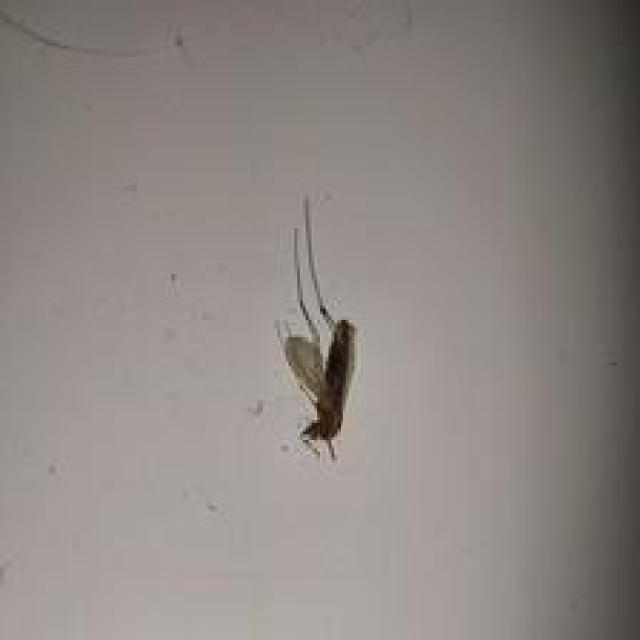Culex: (276, 193, 358, 461)
